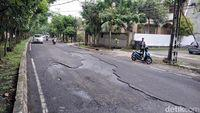Pothole: (44, 56, 80, 82)
